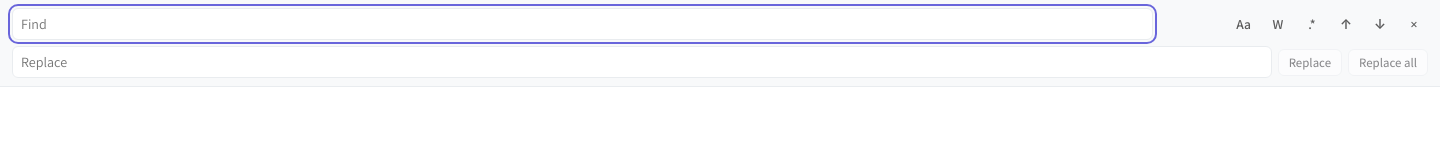
Test: FindReplaceBar › counts matches and replaces all
The image size is (1440, 160).
Later steps or results of the test are not shown.
In the field labelled "Find": (583, 24) [12,8,1153,40], type "cat"
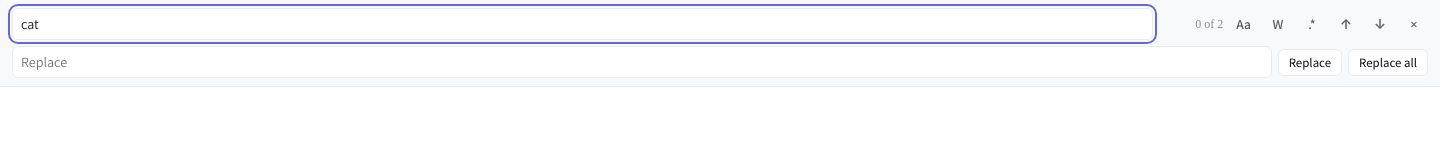
Now the text "0 of 2" is shown, box [1195,16,1223,30]
